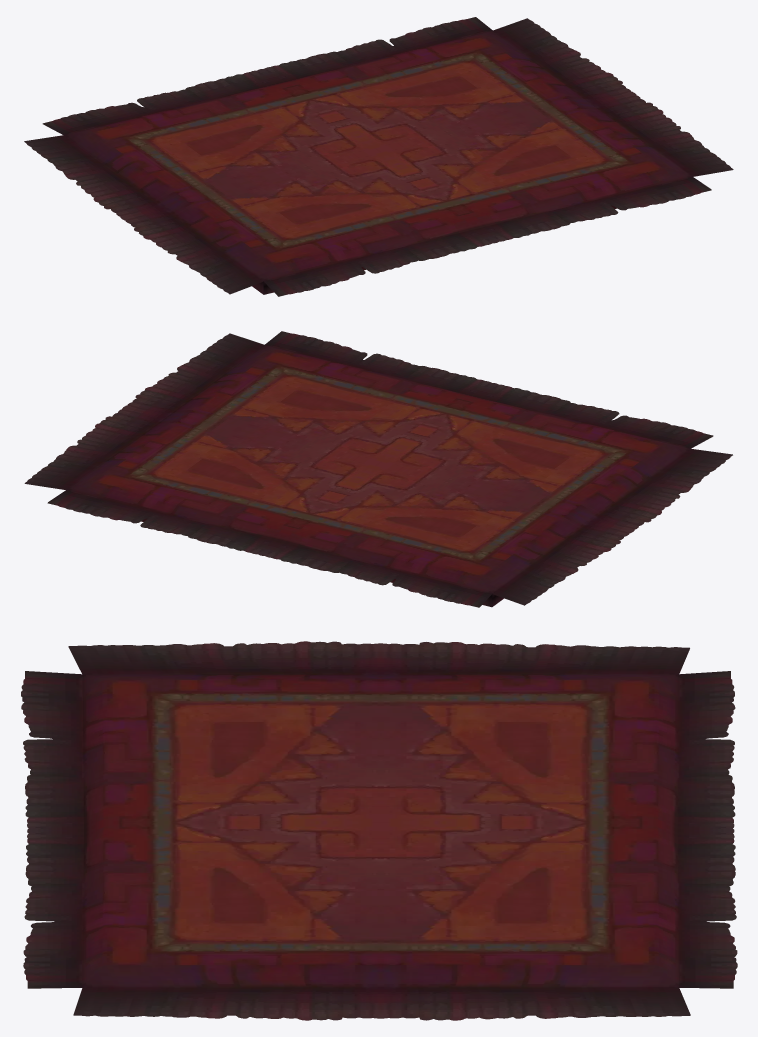
The picture shows the model from 3 angles, top to bottom: view 1: azimuth 30°, elevation 25°; view 2: azimuth 150°, elevation 25°; view 3: azimuth 270°, elevation 25°; orthographic projection. The views are drawn at different scales.
Size of the model in its own units: 4.13 by 0.145 by 3.33.
Materials: 1 (1 with a texture image).
